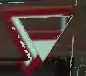Give way: (0, 4, 74, 73)
